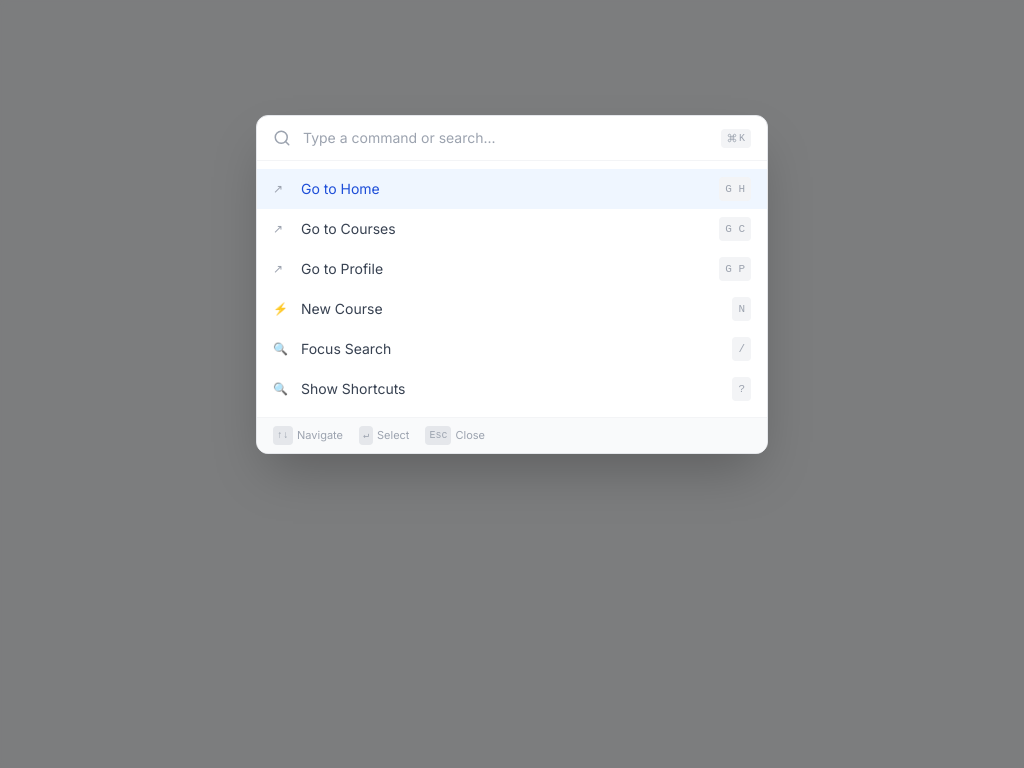
Test: CommandPalette › shows "No results found" when query matches nothing
Type "zzzznonexistent" into the dropdown at (506, 138), box [303,128,709,148]
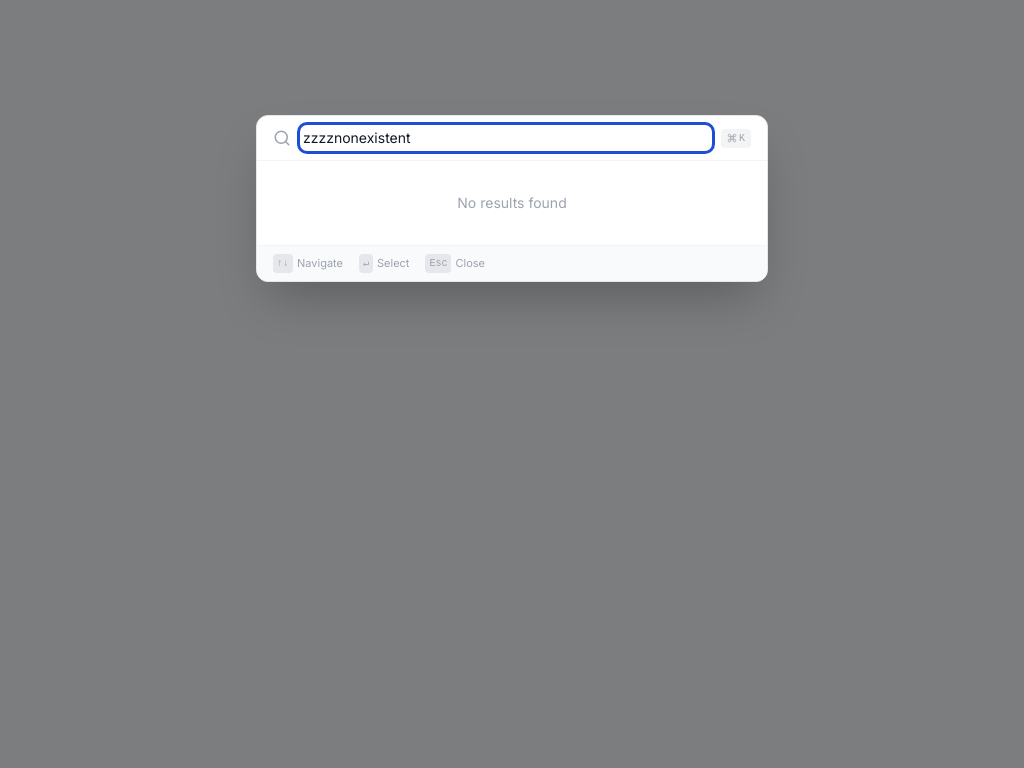
expect the text "No results found" is shown: met, box [457,194,567,211]
